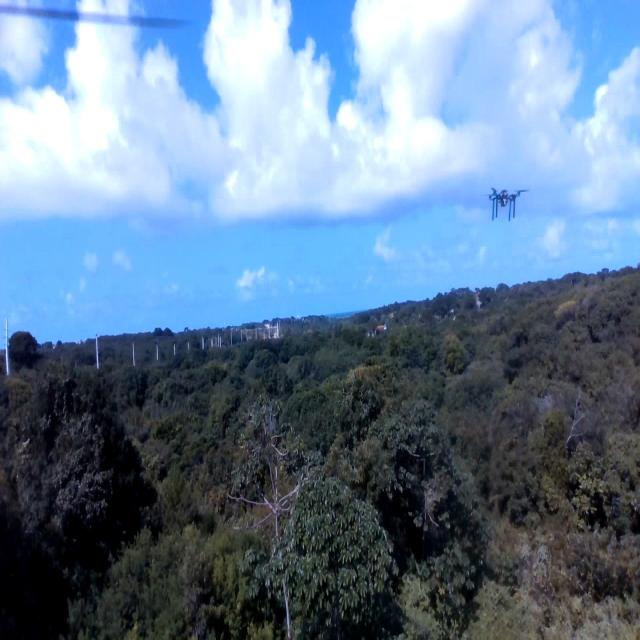-uav-: (482, 166, 528, 240)
